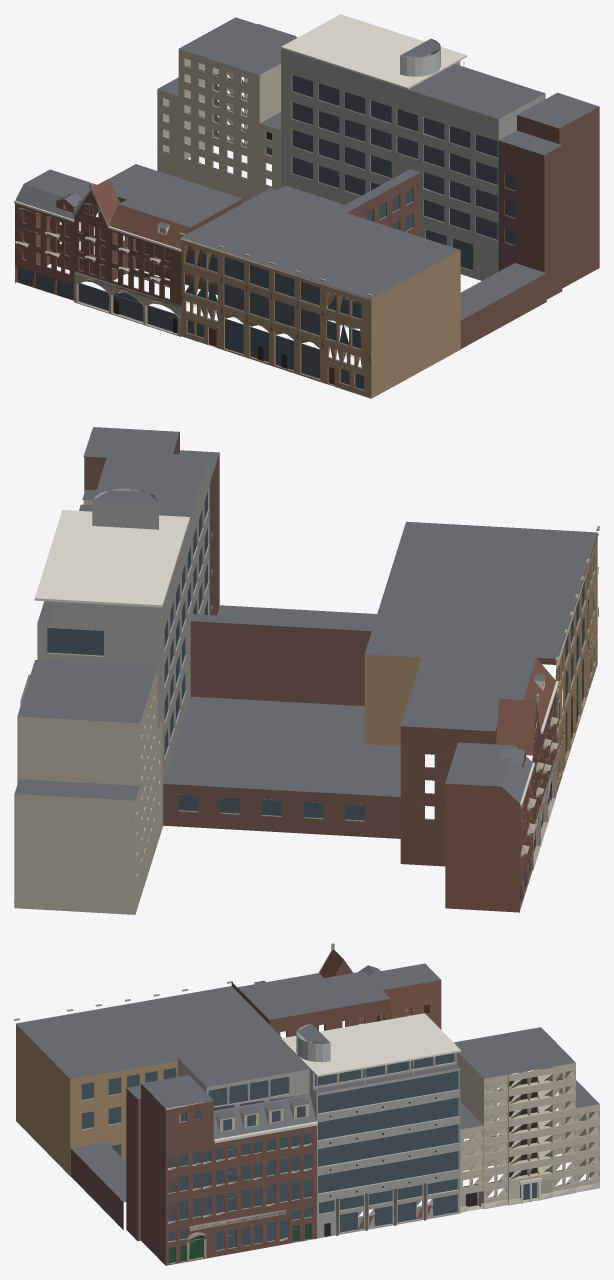
File: da-costakade-146.lod1.glb
The picture shows the model from 3 angles, top to bottom: view 1: azimuth 30°, elevation 25°; view 2: azimuth 150°, elevation 25°; view 3: azimuth 270°, elevation 25°; orthographic projection. The views are drawn at different scales.
Parts seen in each view (by area): view 1: da-costakade-146; view 2: da-costakade-146; view 3: da-costakade-146.
Boxes of the visible parts, x1=… form: da-costakade-146: x1=14, y1=14, x2=599, y2=398; da-costakade-146: x1=14, y1=427, x2=599, y2=914; da-costakade-146: x1=14, y1=943, x2=599, y2=1265.
Bounding box in the file's own units: 83.01 × 32.6 × 94.56.
